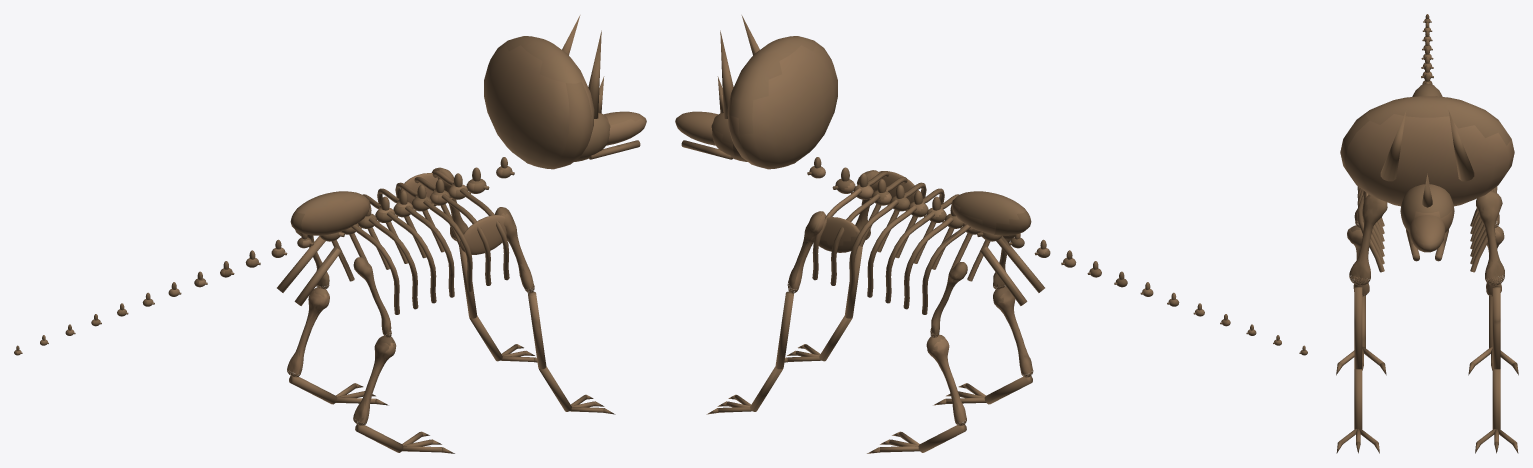
File: Skeleton_Ceratops.fbx
3 renders of one model, left to right at view 1: azimuth 30°, elevation 25°; view 2: azimuth 150°, elevation 25°; view 3: azimuth 270°, elevation 25°, orthographic.
Parts seen in each view (by area): view 1: Skeleton_Ceratops; view 2: Skeleton_Ceratops; view 3: Skeleton_Ceratops.
Boxes of the visible parts, bbox=[...] form: Skeleton_Ceratops: bbox=[14, 15, 646, 453]; Skeleton_Ceratops: bbox=[675, 15, 1307, 453]; Skeleton_Ceratops: bbox=[1336, 14, 1518, 453].
Bounding box in the file's own units: 1.21 × 0.65 × 0.304.
